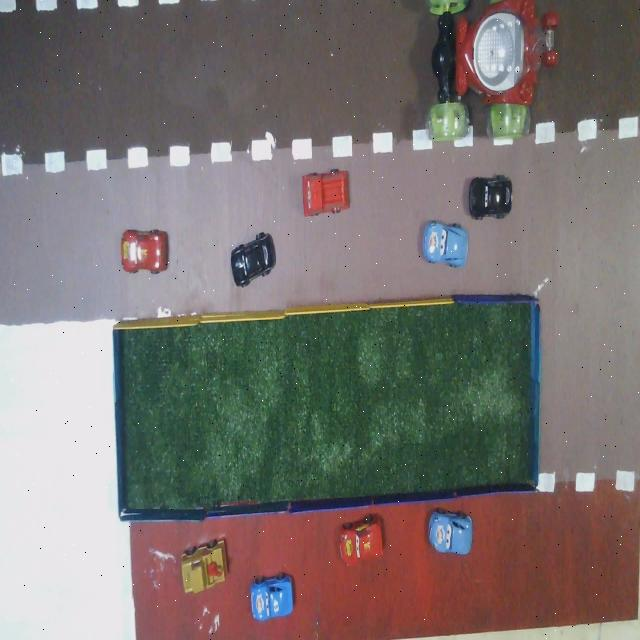small cars: (182, 540, 227, 593), (231, 233, 275, 286), (303, 169, 349, 216), (340, 515, 382, 565), (423, 222, 468, 267), (121, 230, 168, 273), (251, 574, 293, 621), (429, 509, 472, 554), (469, 175, 512, 219)
